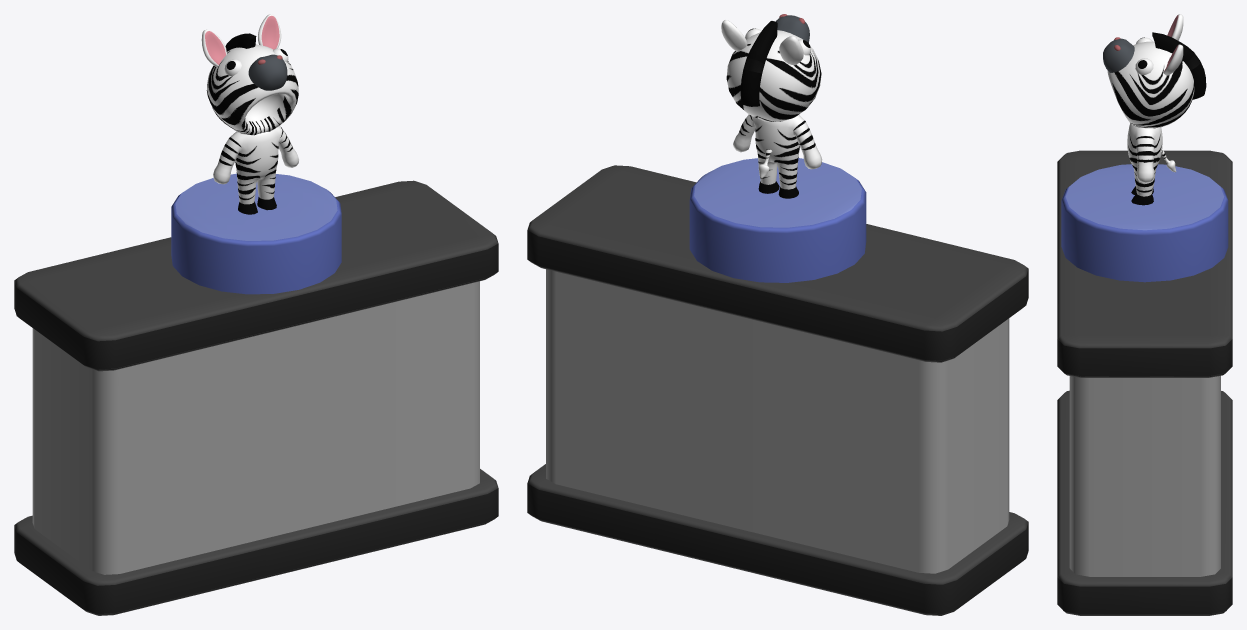
File: Tukinh_zebra.fbx
3 renders of one model, left to right at view 1: azimuth 30°, elevation 25°; view 2: azimuth 150°, elevation 25°; view 3: azimuth 270°, elevation 25°, orthographic. The views are drawn at different scales.
Parts seen in each view (by area): view 1: Glass_trans2, Vach5, Vach6, pedestal2, Zebra_cloth_treo; view 2: Glass_trans2, Vach5, Vach6, pedestal2, Zebra_cloth_treo; view 3: Glass_trans2, Vach5, pedestal2, Vach6, Zebra_cloth_treo.
Part boxes in pixels (<box>): Glass_trans2: <box>32,281,479,574</box>; Vach5: <box>14,180,498,371</box>; Vach6: <box>14,469,498,615</box>; pedestal2: <box>171,173,341,294</box>; Zebra_cloth_treo: <box>201,14,298,214</box>; Glass_trans2: <box>546,269,1009,573</box>; Vach5: <box>527,165,1028,362</box>; Vach6: <box>527,464,1028,615</box>; pedestal2: <box>689,158,866,282</box>; Zebra_cloth_treo: <box>721,14,822,198</box>; Glass_trans2: <box>1069,376,1220,576</box>; Vach5: <box>1057,150,1232,377</box>; pedestal2: <box>1061,164,1228,282</box>; Vach6: <box>1057,390,1232,615</box>; Zebra_cloth_treo: <box>1103,14,1206,205</box>.
Bounding box in the file's own units: 818 × 952 × 309.
